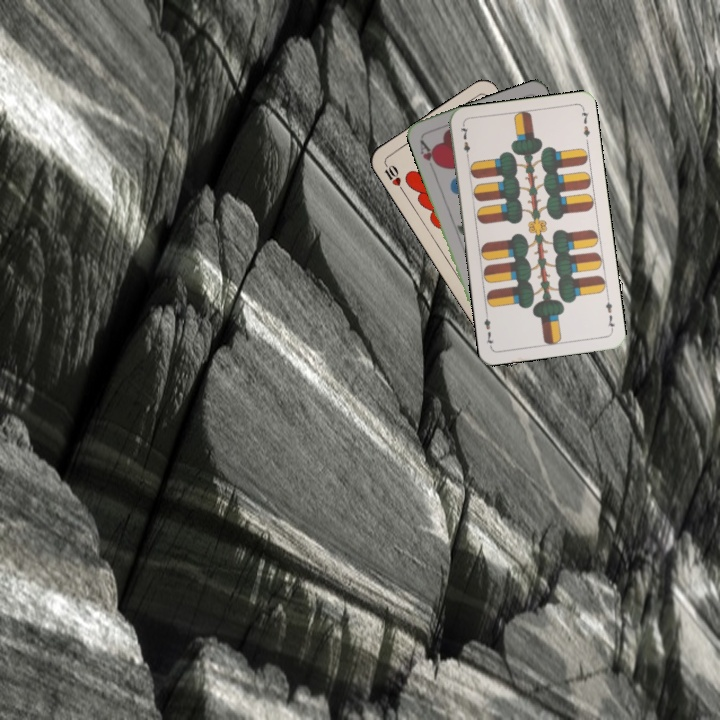E7: (601, 293, 617, 333), (457, 121, 472, 162)
H10: (380, 158, 406, 195)
HA: (416, 136, 442, 174)
